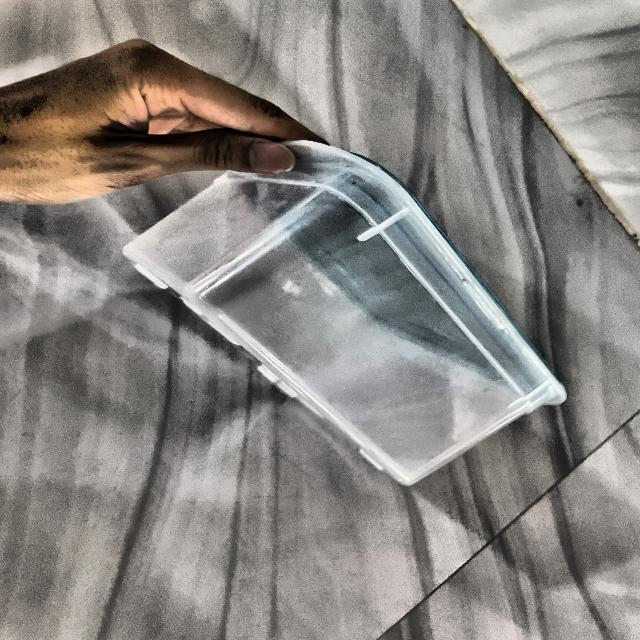plastic container: (132, 86, 604, 524)
